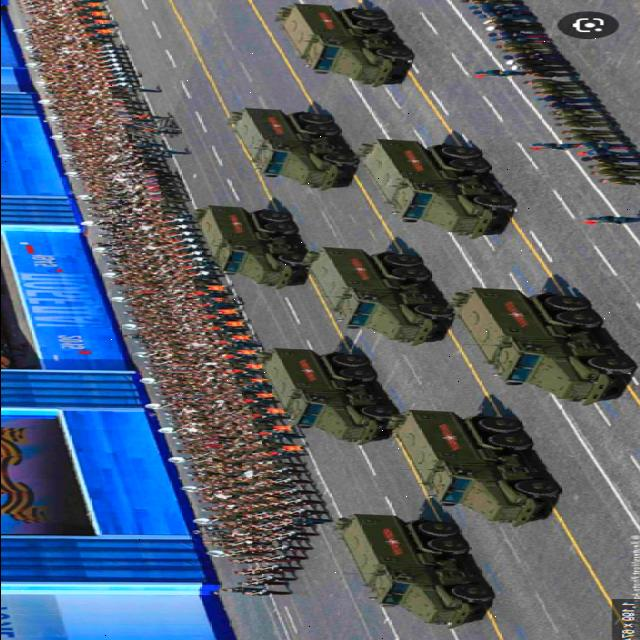TRUCK: (452, 286, 636, 406), (393, 408, 559, 524), (334, 512, 494, 628), (357, 138, 512, 238), (302, 247, 451, 345), (258, 348, 394, 446), (276, 2, 408, 86), (231, 106, 357, 190), (192, 205, 308, 288)
